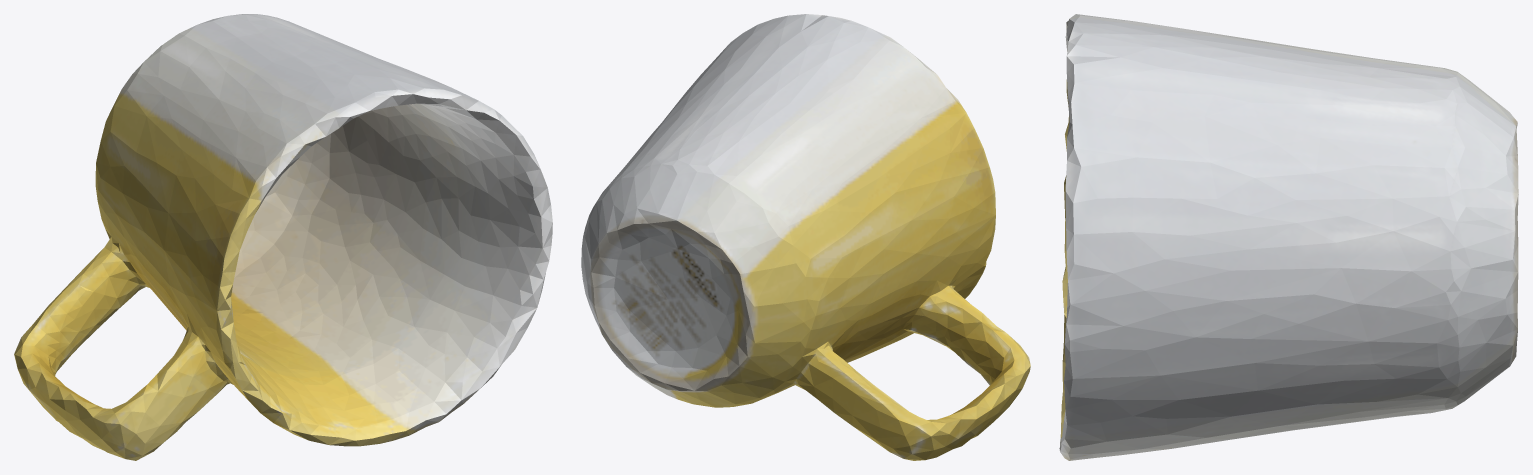
The picture shows the model from 3 angles, left to right: view 1: azimuth 30°, elevation 25°; view 2: azimuth 150°, elevation 25°; view 3: azimuth 270°, elevation 25°; orthographic projection. The views are drawn at different scales.
Bounding box in the file's own units: 0.128 × 0.102 × 0.1053.
Materials: 1 (1 with a texture image).
